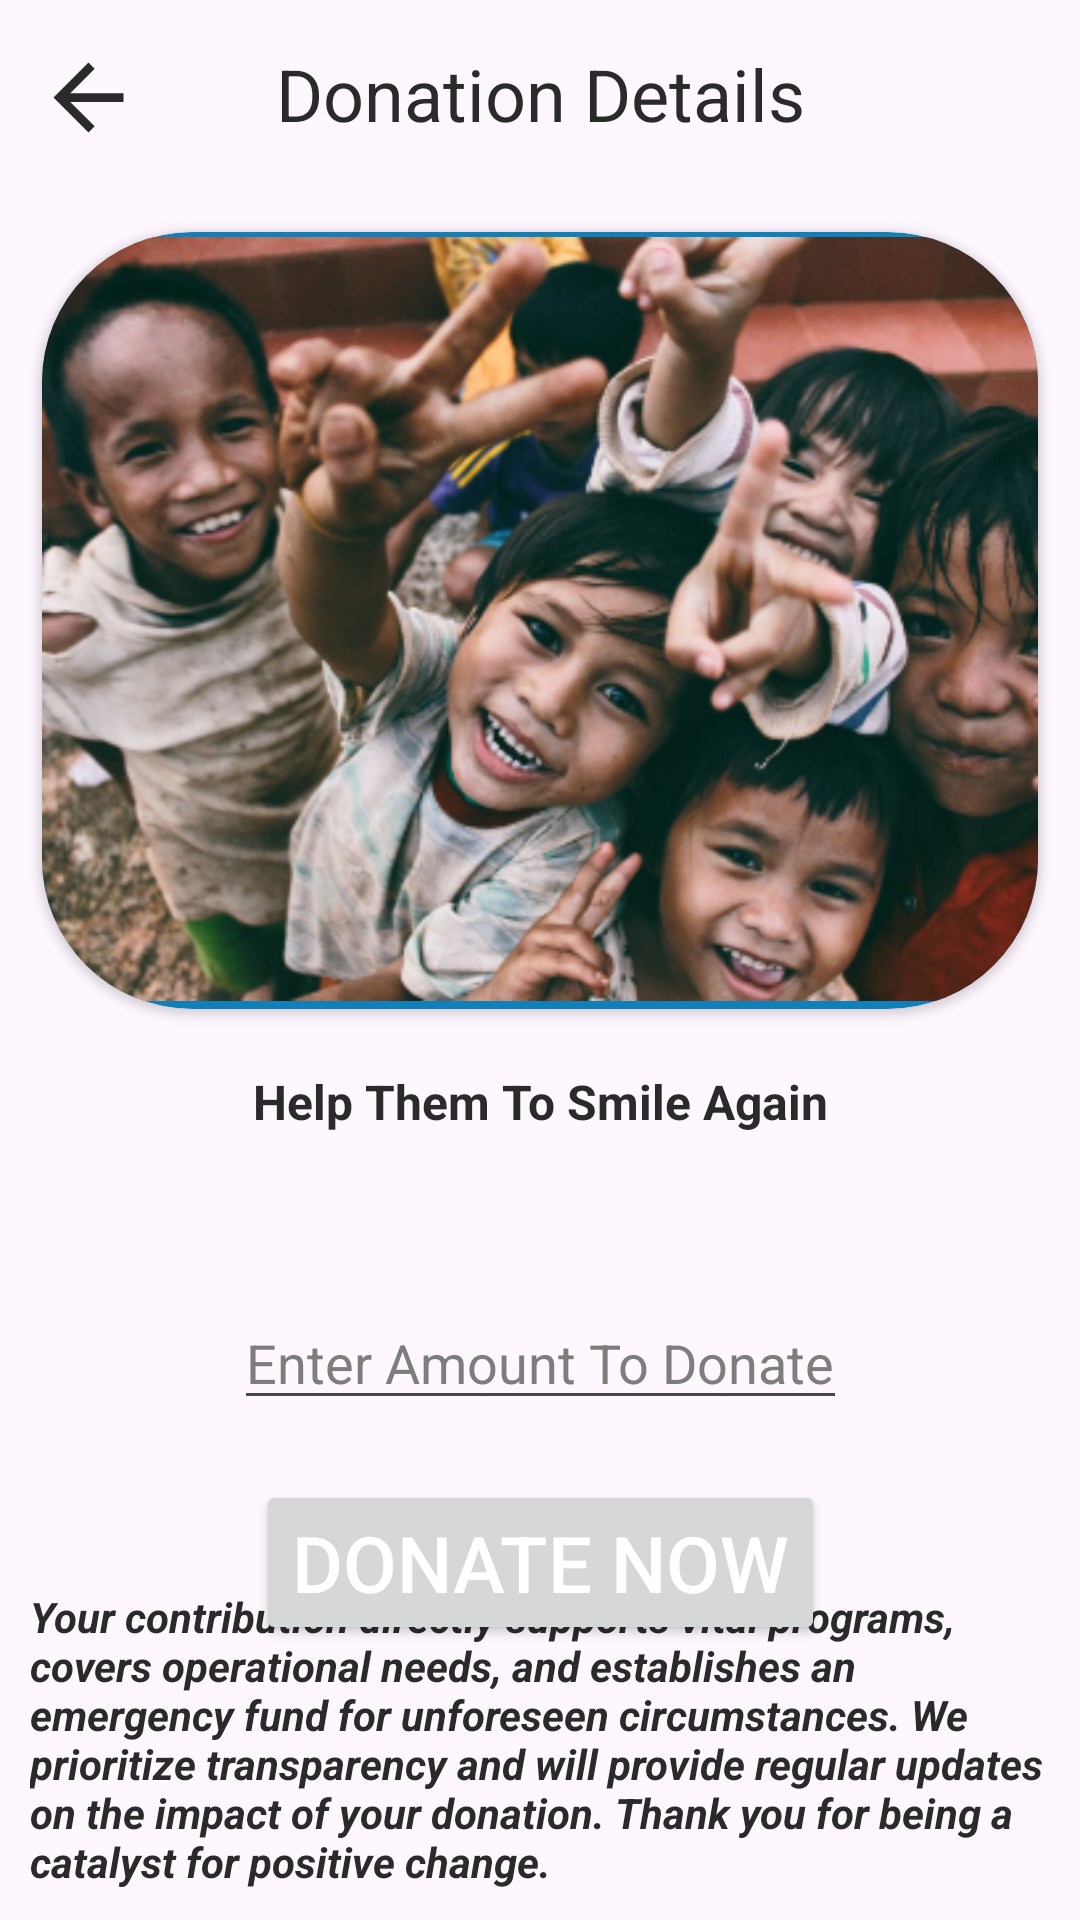

Icon click points for this 1080px x 1920px phone screenshot, format point (x, y):
backbtn: point (88, 97)
